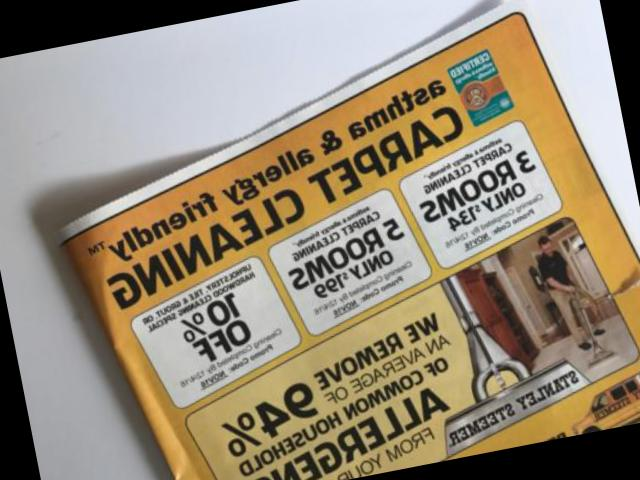cardboard paper: (61, 0, 640, 480)
